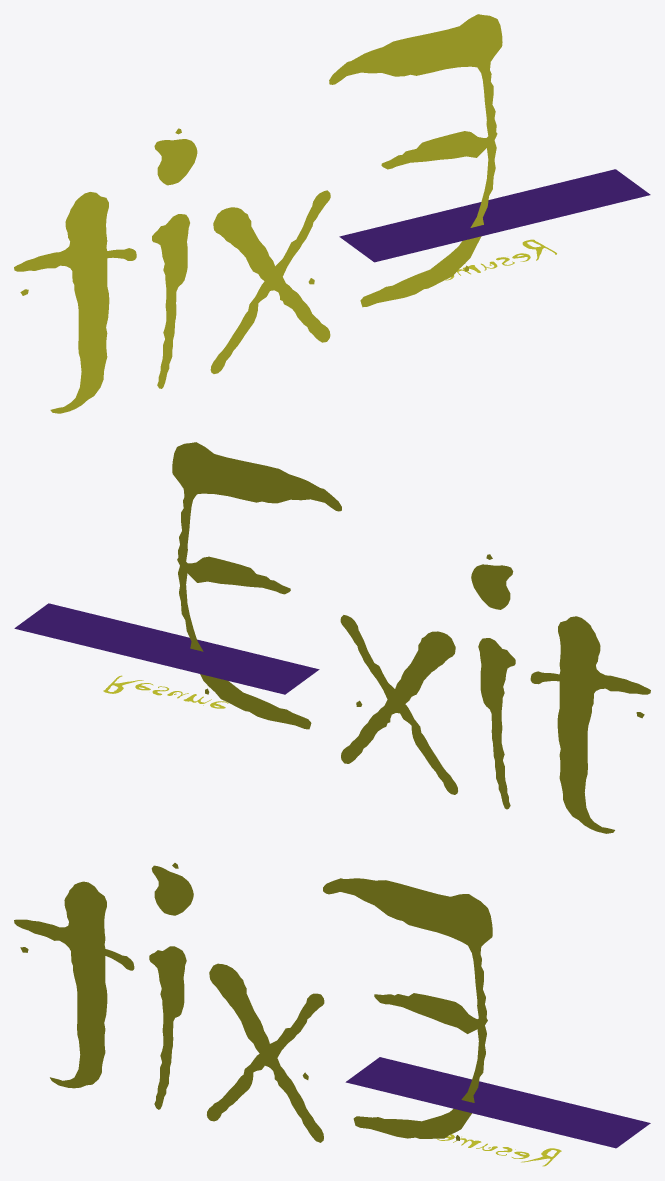
File: ExitPauseMenuButtonText.obj
3 views of the same model, one above another, from view 1: azimuth 30°, elevation 25°; view 2: azimuth 150°, elevation 25°; view 3: azimuth 330°, elevation 25° (orthographic). The views are drawn at different scales.
Parts seen in each view (by area): view 1: ExitPauseMenuButtonText, resumePauseMenuButton; view 2: ExitPauseMenuButtonText, resumePauseMenuButton, resumePauseMenuButtonText; view 3: ExitPauseMenuButtonText, resumePauseMenuButton, resumePauseMenuButtonText.
Boxes of the visible parts, <box> form: ExitPauseMenuButtonText: <box>14,14,502,413</box>; resumePauseMenuButton: <box>339,169,650,262</box>; ExitPauseMenuButtonText: <box>172,442,650,833</box>; resumePauseMenuButton: <box>14,603,319,694</box>; resumePauseMenuButtonText: <box>103,675,228,708</box>; ExitPauseMenuButtonText: <box>14,863,492,1142</box>; resumePauseMenuButton: <box>345,1057,650,1148</box>; resumePauseMenuButtonText: <box>437,1134,561,1166</box>.
Bounding box in the file's own units: 1.29 × 0.5844 × 0.1257.
